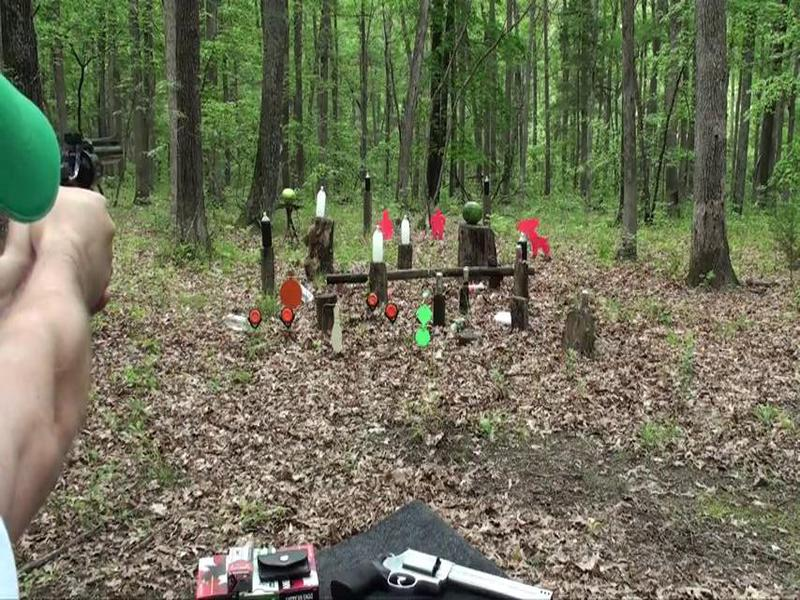Revolver: (50, 112, 133, 217)
